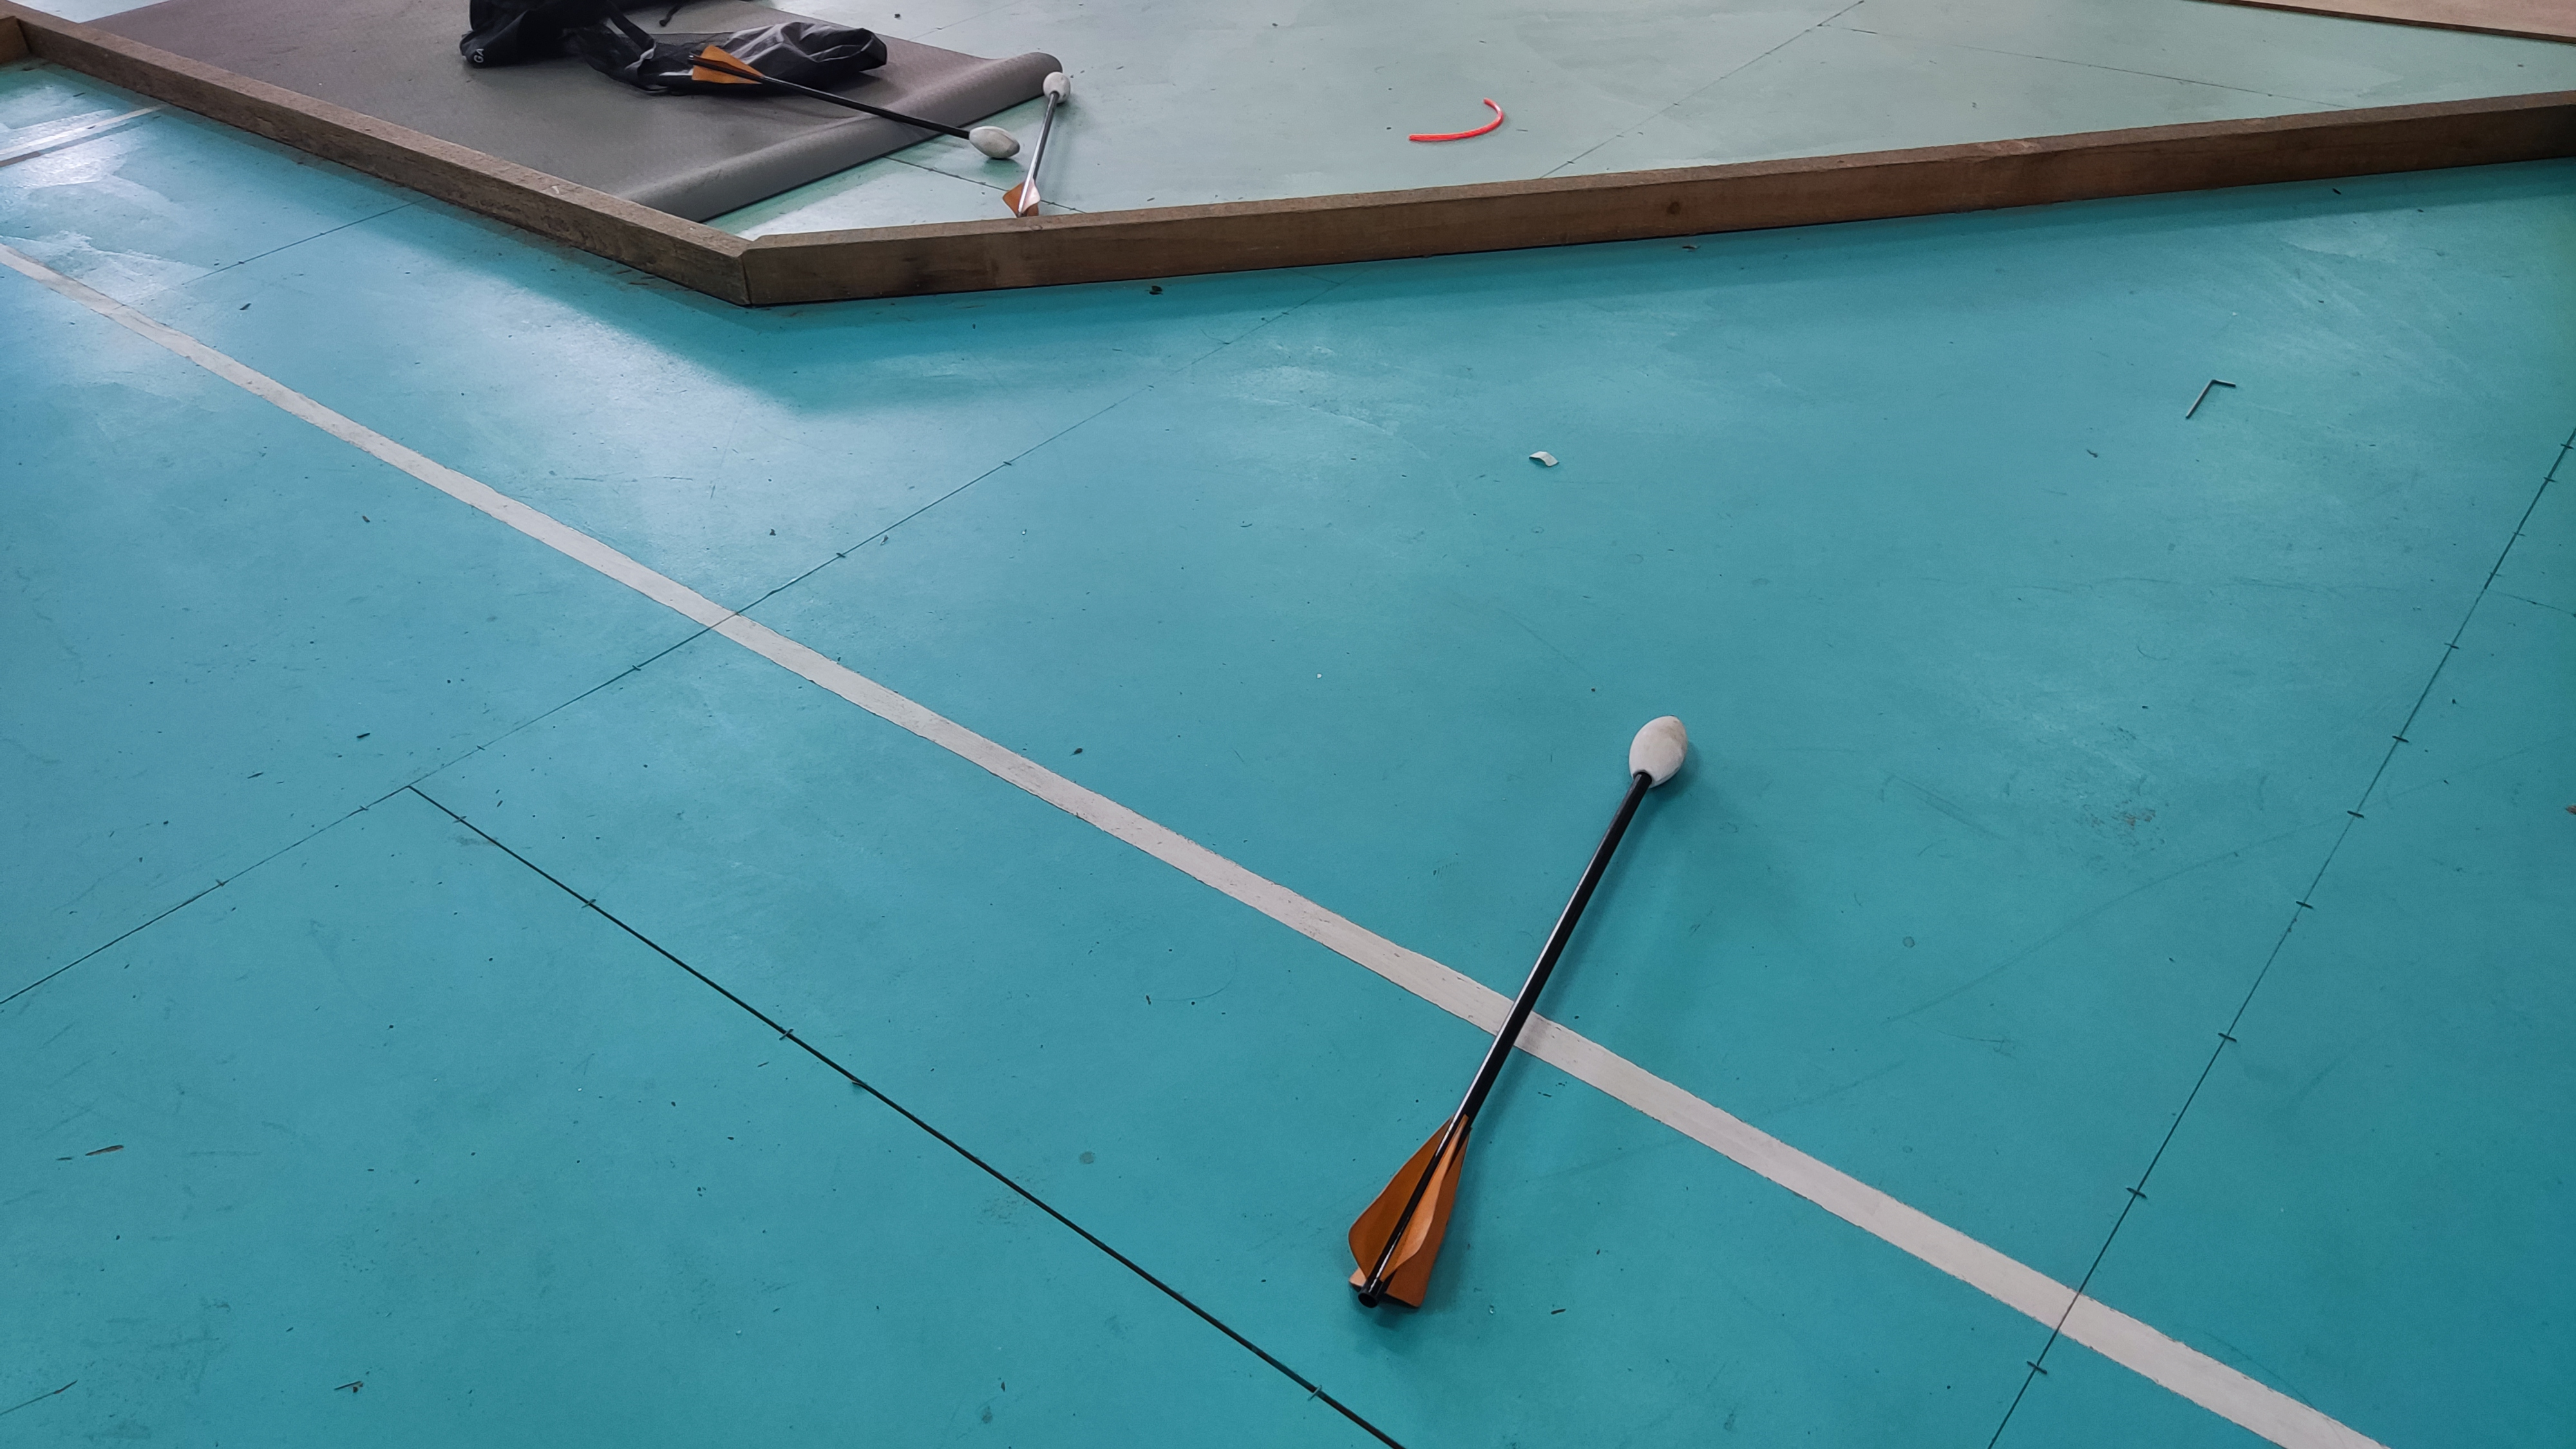arrow: (1329, 708, 1700, 1318), (685, 44, 1021, 157), (1001, 71, 1069, 219)
arrowFront: (1622, 709, 1693, 786), (968, 126, 1019, 159), (1040, 73, 1070, 104)
